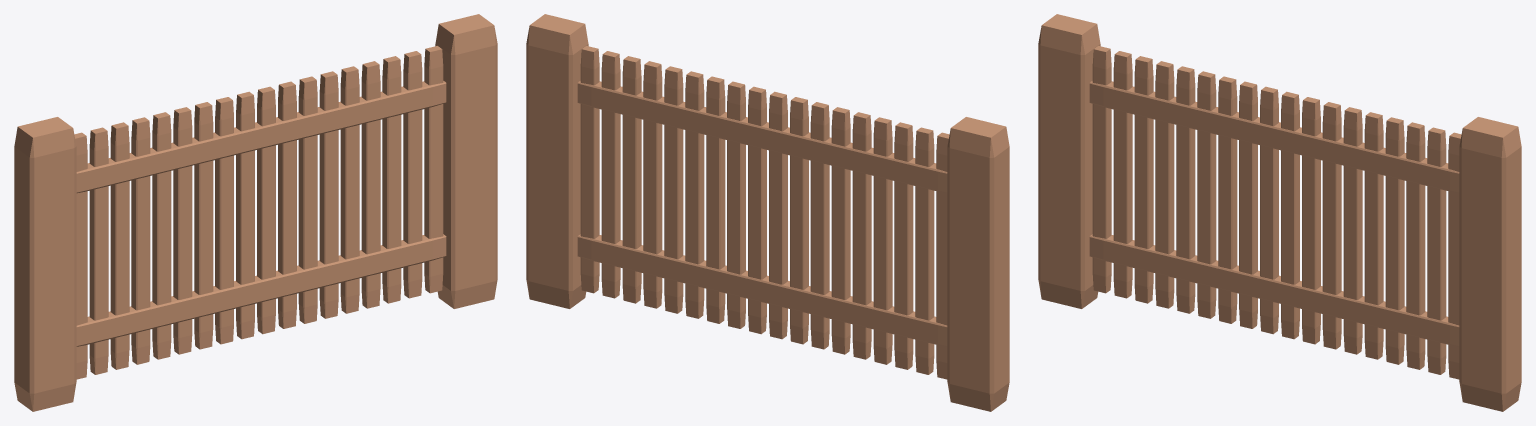
The model's file is b19_flat_top_pool_fence.glb.
3 renders of one model, left to right at view 1: azimuth 30°, elevation 25°; view 2: azimuth 150°, elevation 25°; view 3: azimuth 330°, elevation 25°, orthographic.
Parts seen in each view (by area): view 1: b19_flat_top_pool_fence; view 2: b19_flat_top_pool_fence; view 3: b19_flat_top_pool_fence.
Part boxes in pixels (x1,y1,x2,y2): b19_flat_top_pool_fence: [14, 14, 497, 411]; b19_flat_top_pool_fence: [526, 14, 1009, 411]; b19_flat_top_pool_fence: [1038, 14, 1521, 411].
Bounding box in the file's own units: 2.57 × 1.44 × 0.17.
